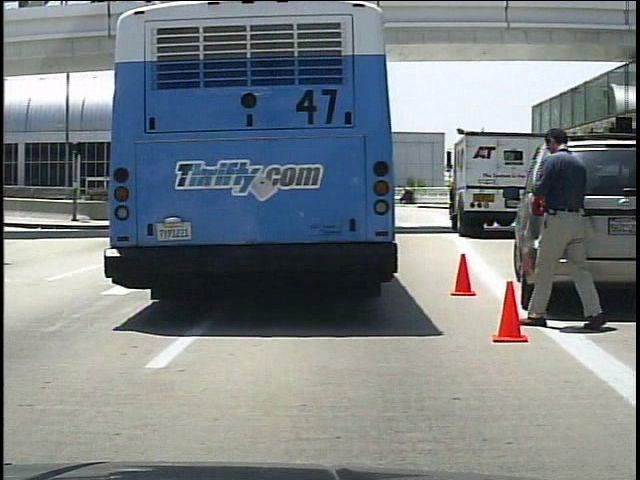person: (513, 118, 603, 339)
